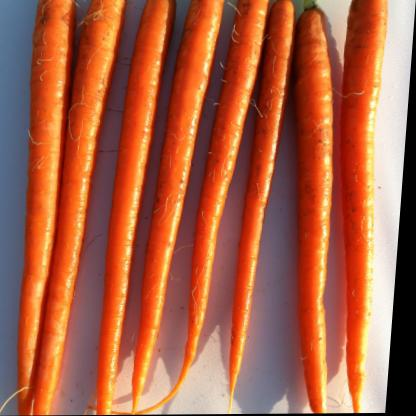carrot: (16, 0, 122, 416), (273, 0, 364, 414), (326, 0, 414, 414), (150, 0, 233, 415), (242, 0, 298, 414)
